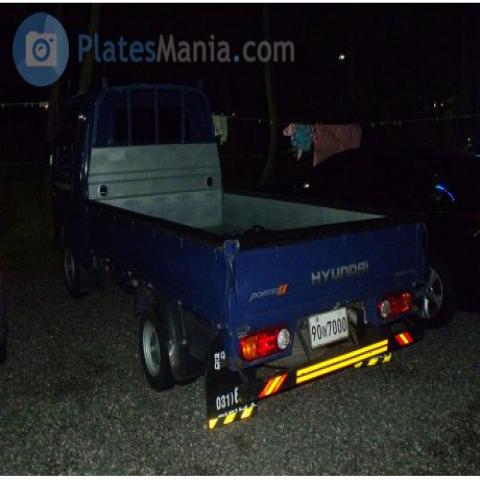LP: (302, 300, 355, 354)
